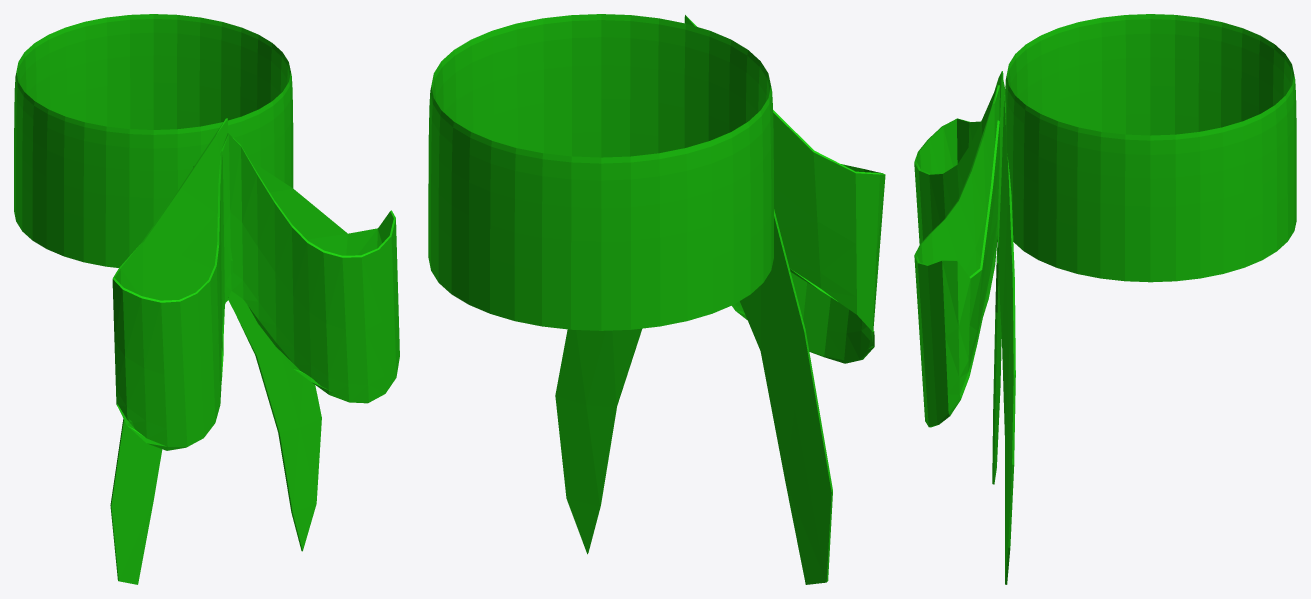
File: bant_green.dae
3 views of the same model, side by side, from view 1: azimuth 30°, elevation 25°; view 2: azimuth 150°, elevation 25°; view 3: azimuth 270°, elevation 25° (orthographic). The views are drawn at different scales.
Visible parts, largest first — view 1: Circle; view 2: Circle; view 3: Circle.
Boxes of the visible parts, x1,y1,x2,y2 form: Circle: (14, 14, 399, 584); Circle: (428, 14, 885, 584); Circle: (914, 14, 1296, 584).
Size of the model in its own units: 0.8977 by 1 by 1.37.
